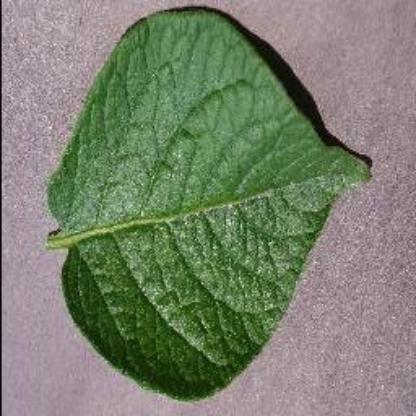Healthy-plant: (34, 6, 376, 406)
